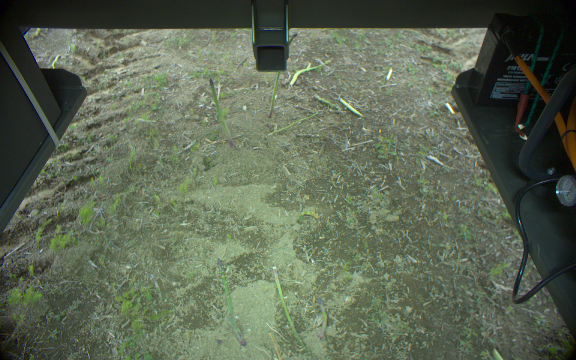aspa: (211, 257, 245, 348), (271, 266, 306, 349), (267, 30, 298, 118), (208, 76, 235, 148), (289, 57, 331, 86), (315, 296, 328, 340)
